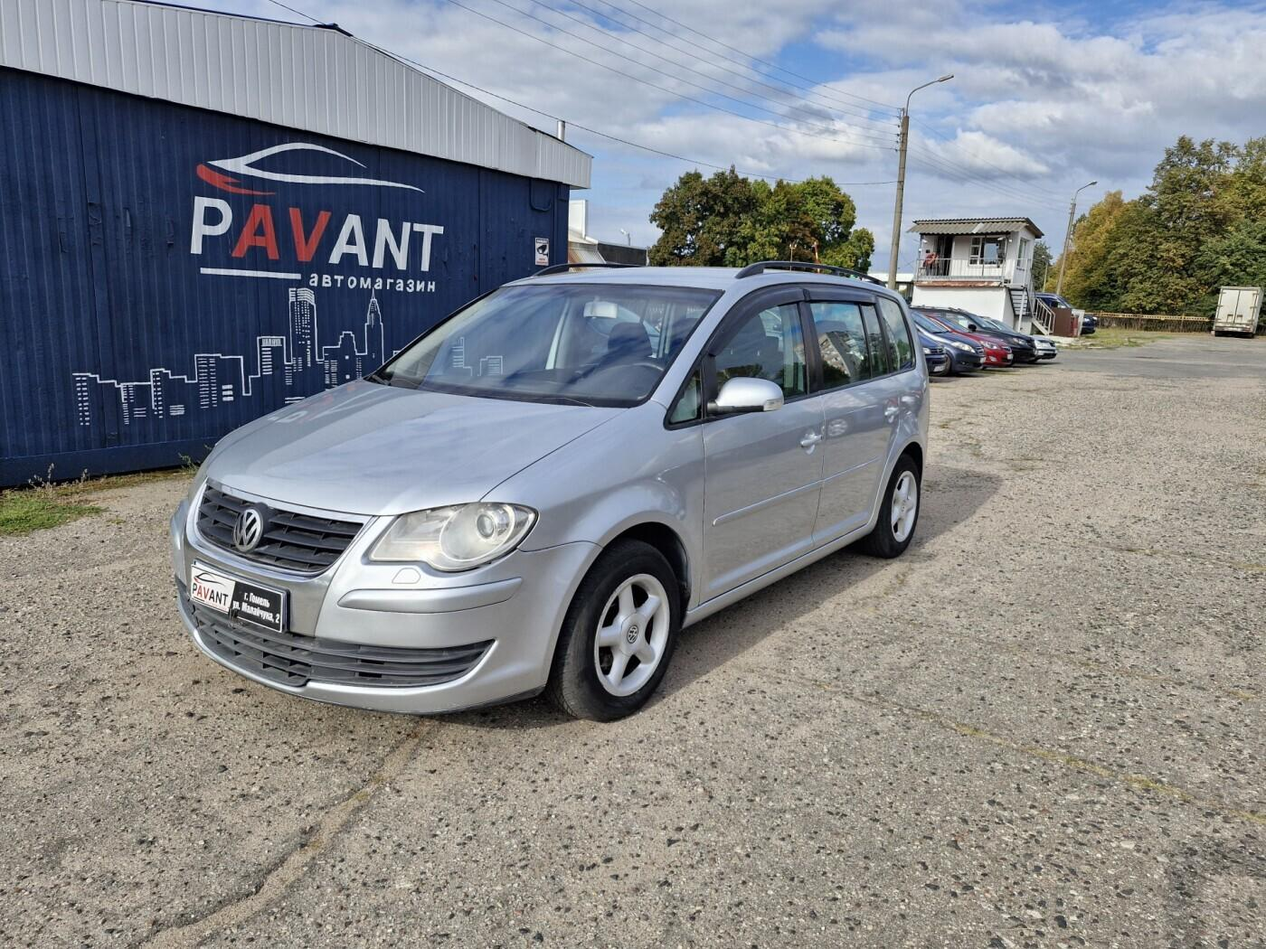Touran_2006-2010: (171, 261, 933, 723)
